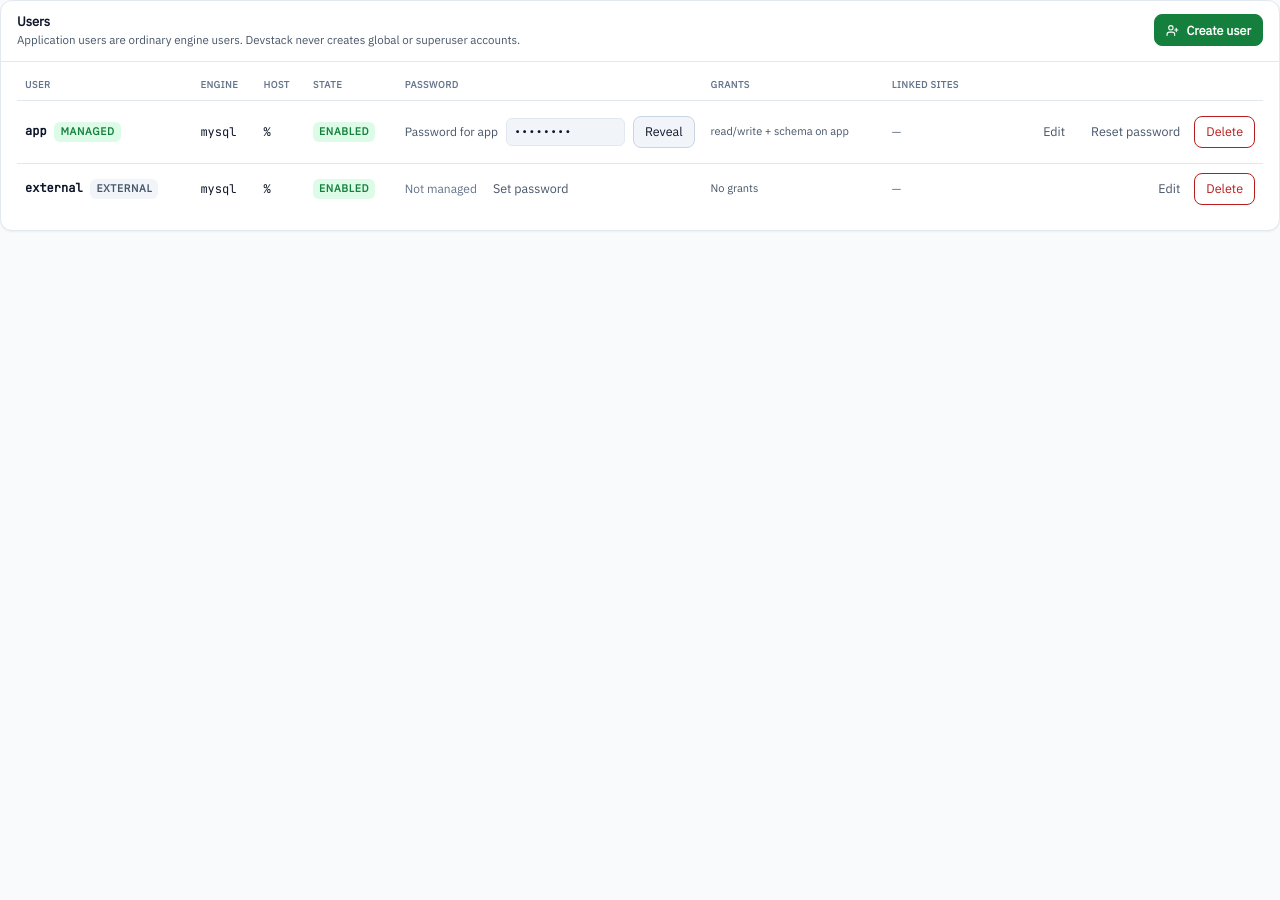
UsersTab › identifies the host scope in the delete dialog
This screenshot has width=1280, height=900.
Step 1. Click the button with aria-label "delete app" → (1225, 132), box [1194,116,1255,148]
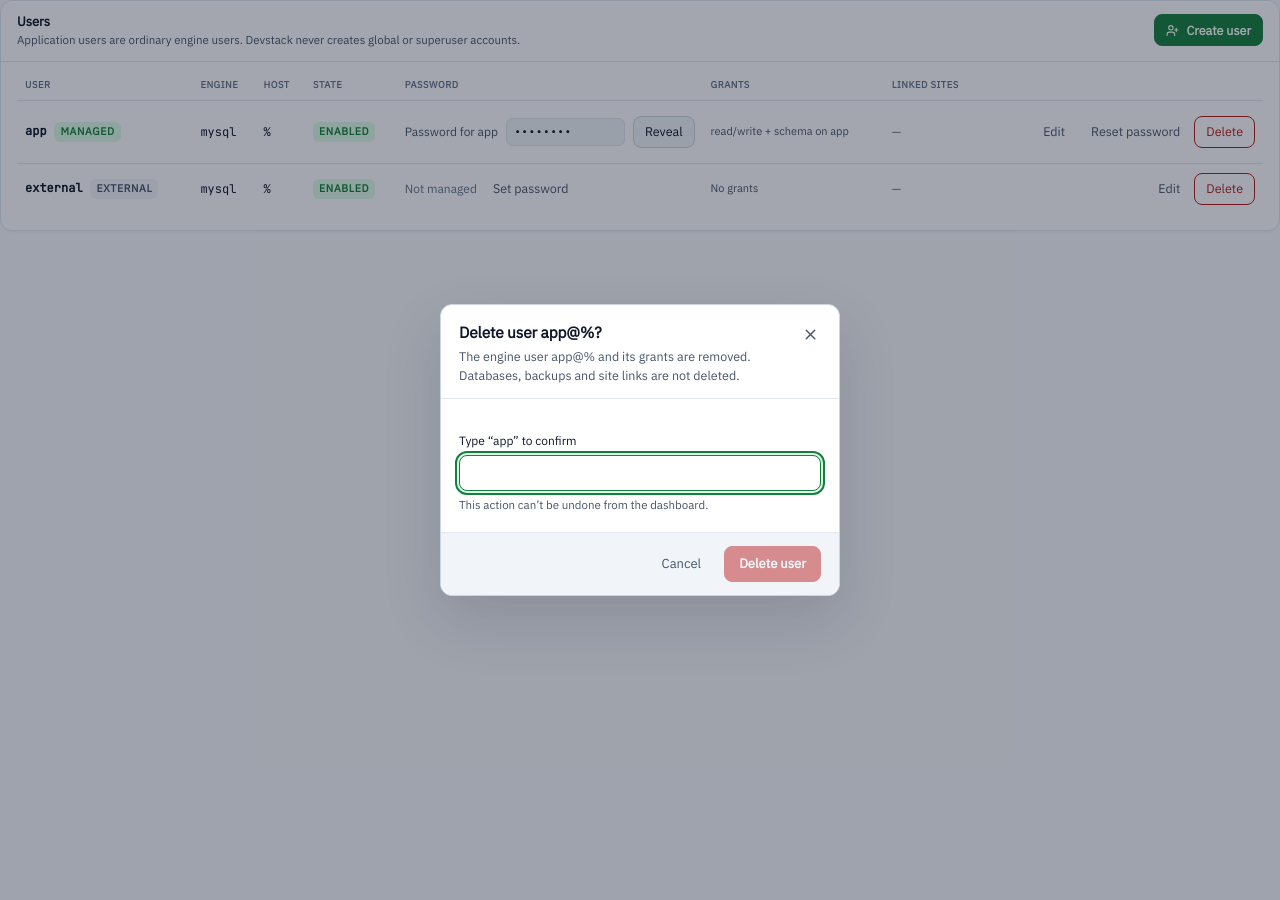
Expected: the heading "Delete user app@%?" is shown, [459,322,601,342]
